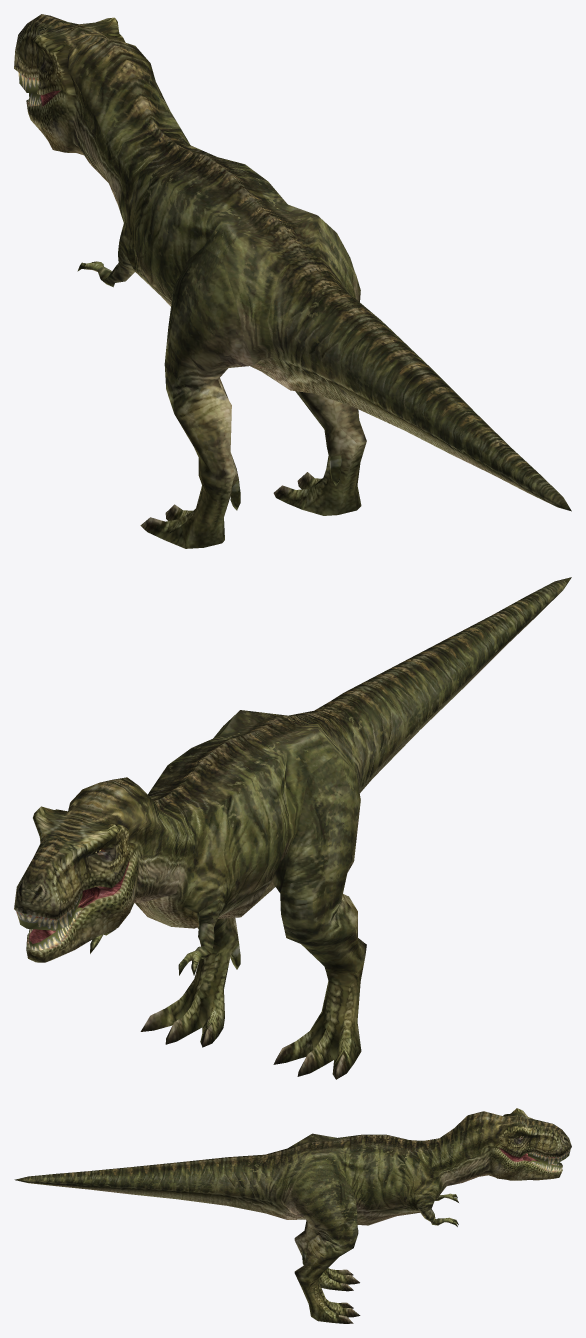
File: trex4.dae
The picture shows the model from 3 angles, top to bottom: view 1: azimuth 30°, elevation 25°; view 2: azimuth 150°, elevation 25°; view 3: azimuth 270°, elevation 25°; orthographic projection. The views are drawn at different scales.
Visible parts, largest first — view 1: trex; view 2: trex; view 3: trex.
Part boxes in pixels (x1,y1,x2,y2): trex: (14,14,571,548); trex: (14,577,571,1079); trex: (14,1108,571,1323).
Size of the model in its own units: 2.94 by 13.96 by 5.17.
1 material, 1 textured.
